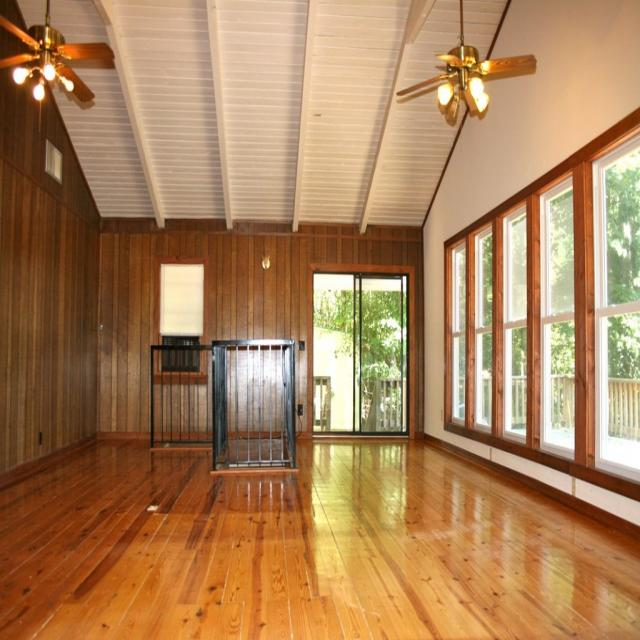Bulb: (394, 0, 536, 143), (1, 0, 114, 143)
